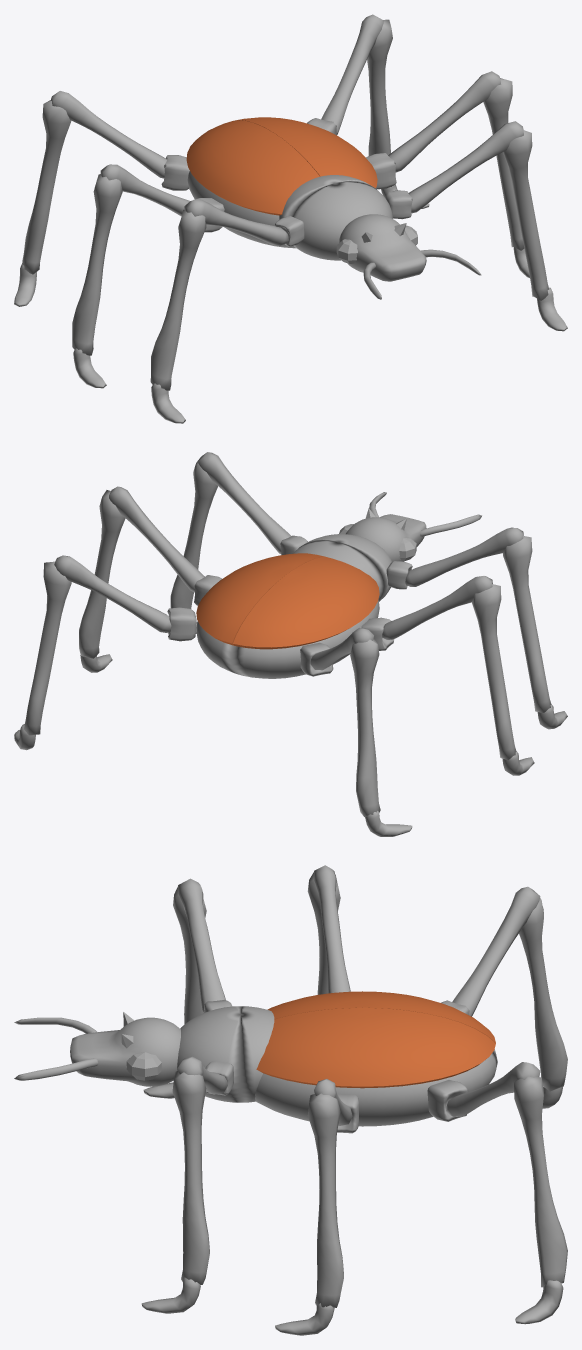
File: redBeatle.fbx
The picture shows the model from 3 angles, top to bottom: view 1: azimuth 30°, elevation 25°; view 2: azimuth 150°, elevation 25°; view 3: azimuth 270°, elevation 25°; orthographic projection. The views are drawn at different scales.
Visible parts, largest first — view 1: polySurface5, pSphere2, pSphere5, polySurface6, polySurface15, polySurface21, polySurface9, polySurface22, polySurface10, polySurface14, polySurface20, polySurface7 (+13 smaller); view 2: polySurface5, polySurface6, pSphere1, polySurface9, polySurface21, polySurface15, polySurface10, polySurface16, pSphere2, pSphere5, polySurface22, polySurface14 (+10 smaller); view 3: polySurface6, pSphere2, pSphere5, pSphere1, polySurface16, polySurface22, polySurface10, polySurface9, polySurface5, polySurface7, polySurface19, polySurface13 (+11 smaller).
Part boxes in pixels (left/top/right/bottom): polySurface5: left=186, top=120, right=319, bottom=215; pSphere2: left=279, top=175, right=392, bottom=260; pSphere5: left=336, top=214, right=426, bottom=281; polySurface6: left=235, top=117, right=377, bottom=188; polySurface15: left=72, top=174, right=122, bottom=355; polySurface21: left=150, top=209, right=206, bottom=390; polySurface9: left=22, top=100, right=71, bottom=274; polySurface22: left=503, top=130, right=548, bottom=300; polySurface10: left=367, top=19, right=392, bottom=186; polySurface14: left=388, top=71, right=500, bottom=172; polySurface20: left=408, top=121, right=523, bottom=213; polySurface7: left=50, top=91, right=166, bottom=178; polySurface5: left=233, top=556, right=379, bottom=649; polySurface6: left=196, top=553, right=323, bottom=645; pSphere1: left=196, top=599, right=379, bottom=678; polySurface9: left=350, top=638, right=380, bottom=816; polySurface21: left=503, top=536, right=551, bottom=712; polySurface15: left=472, top=584, right=516, bottom=760; polySurface10: left=24, top=561, right=71, bottom=735; polySurface16: left=79, top=490, right=125, bottom=658; pSphere2: left=292, top=534, right=391, bottom=601; pSphere5: left=339, top=508, right=426, bottom=561; polySurface22: left=170, top=456, right=217, bottom=608; polySurface14: left=109, top=486, right=204, bottom=592; polySurface6: left=256, top=1007, right=495, bottom=1088; pSphere2: left=177, top=1006, right=274, bottom=1102; pSphere5: left=70, top=1012, right=180, bottom=1086; pSphere1: left=255, top=1049, right=497, bottom=1126; polySurface16: left=307, top=1093, right=343, bottom=1307; polySurface22: left=172, top=1071, right=209, bottom=1284; polySurface10: left=514, top=1076, right=567, bottom=1287; polySurface9: left=519, top=898, right=567, bottom=1091; polySurface5: left=267, top=991, right=495, bottom=1042; polySurface7: left=452, top=886, right=540, bottom=1016; polySurface19: left=178, top=878, right=225, bottom=1012; polySurface13: left=314, top=865, right=350, bottom=993.
Bounding box in the file's own units: 31.45 × 13.66 × 28.76.
